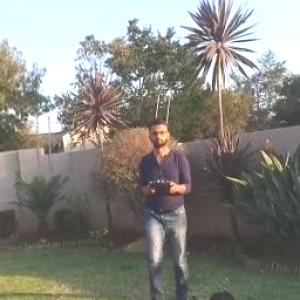follow: (132, 112, 197, 299)
